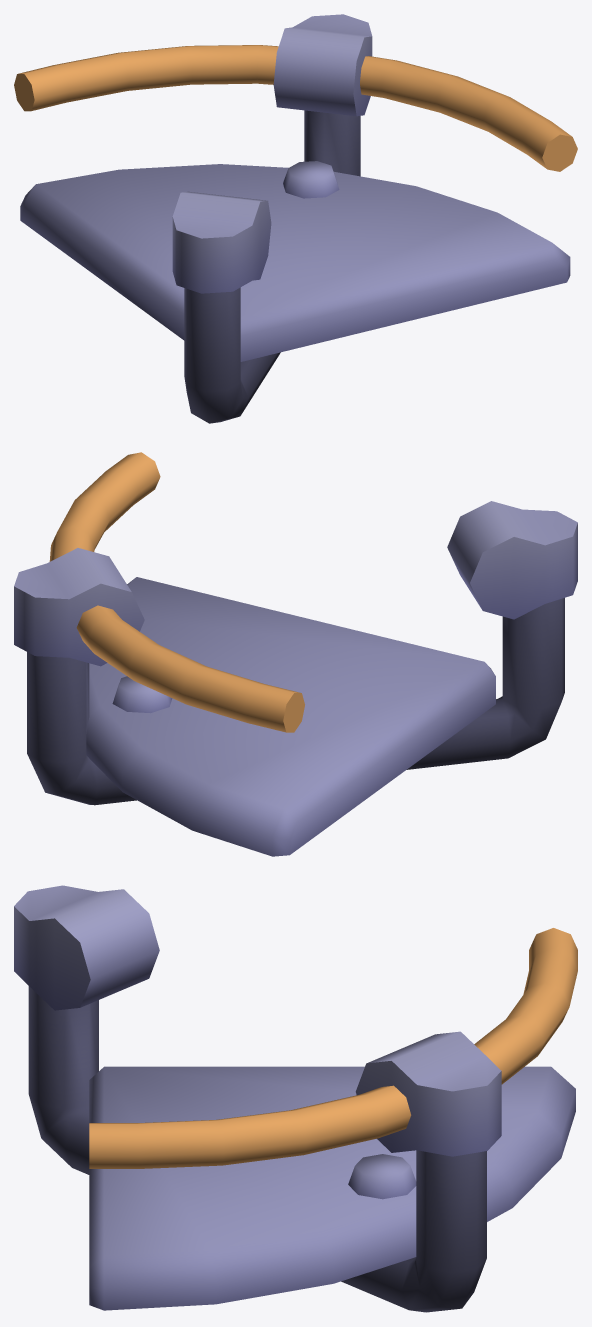
The model's file is kenney-factory-catwalk-corner.glb.
3 renders of one model, top to bottom at view 1: azimuth 30°, elevation 25°; view 2: azimuth 150°, elevation 25°; view 3: azimuth 270°, elevation 25°, orthographic. The views are drawn at different scales.
Parts seen in each view (by area): view 1: catwalk-corner; view 2: catwalk-corner; view 3: catwalk-corner.
Boxes of the visible parts, x1,y1,x2,y2 form: catwalk-corner: (14,14,577,423); catwalk-corner: (14,452,577,856); catwalk-corner: (14,885,577,1312).
Bounding box in the file's own units: 1.73 × 0.9021 × 1.73.
1 material, 1 textured.
